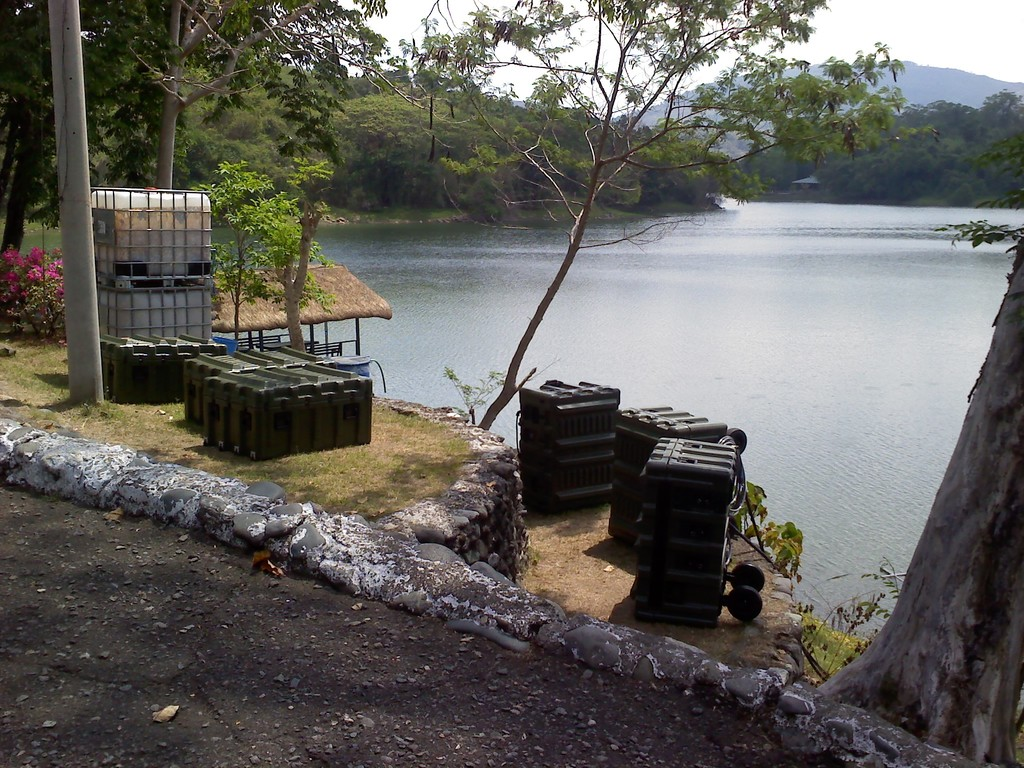Wheel: (725, 580, 764, 622), (733, 563, 765, 596), (730, 426, 748, 450)
